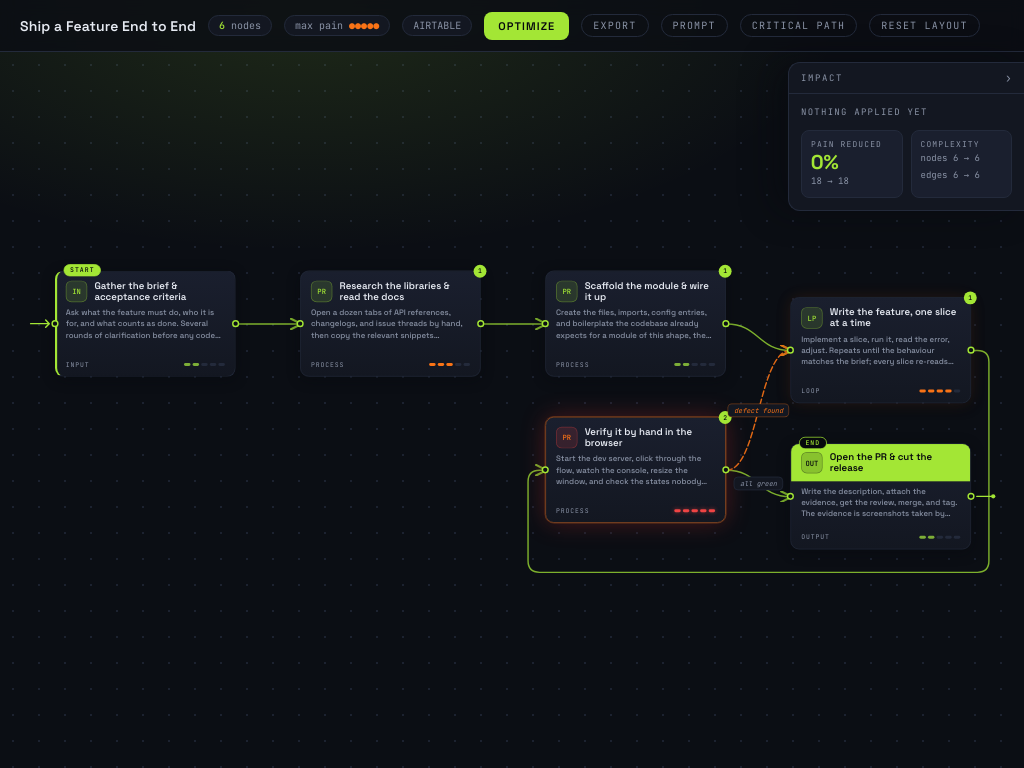
Scenario: opens the window on the run the button speaks for, live off the session
What coordinates should you click on to do the following:
click the button with test id "optimize-btn"
I would click on:
 (527, 26)
Its box is left=484, top=12, right=569, bottom=40.
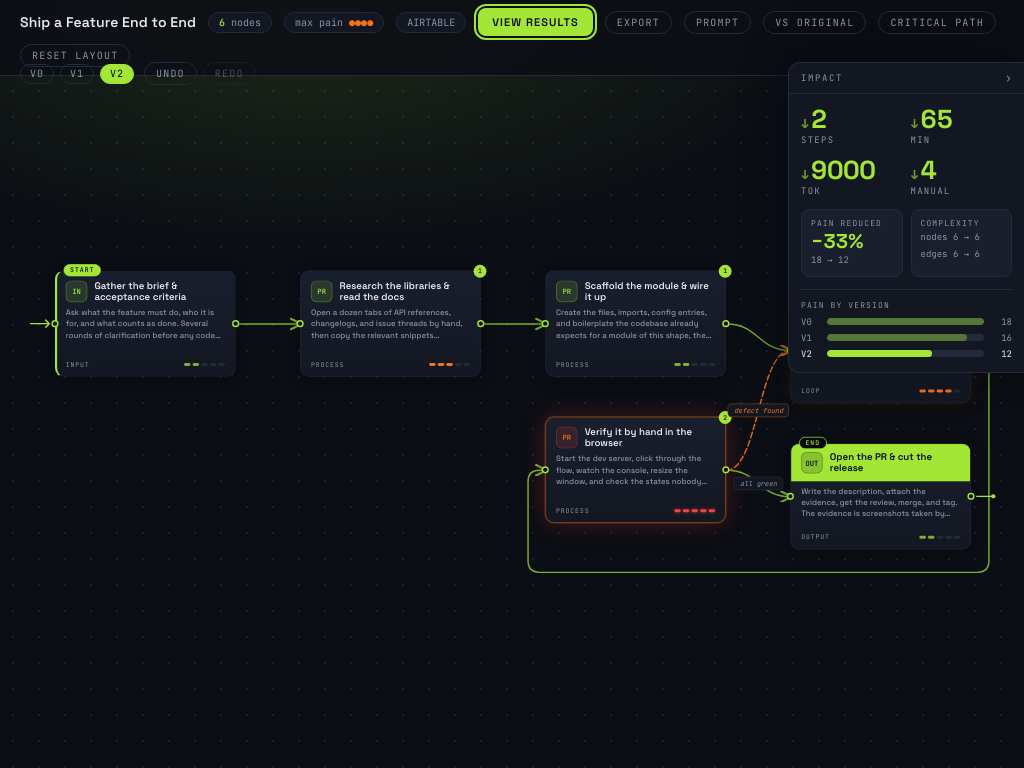
What coordinates should you click on to do the following:
click the button with test id "view-results-btn"
I would click on:
 (536, 22)
Its box is left=478, top=8, right=593, bottom=36.
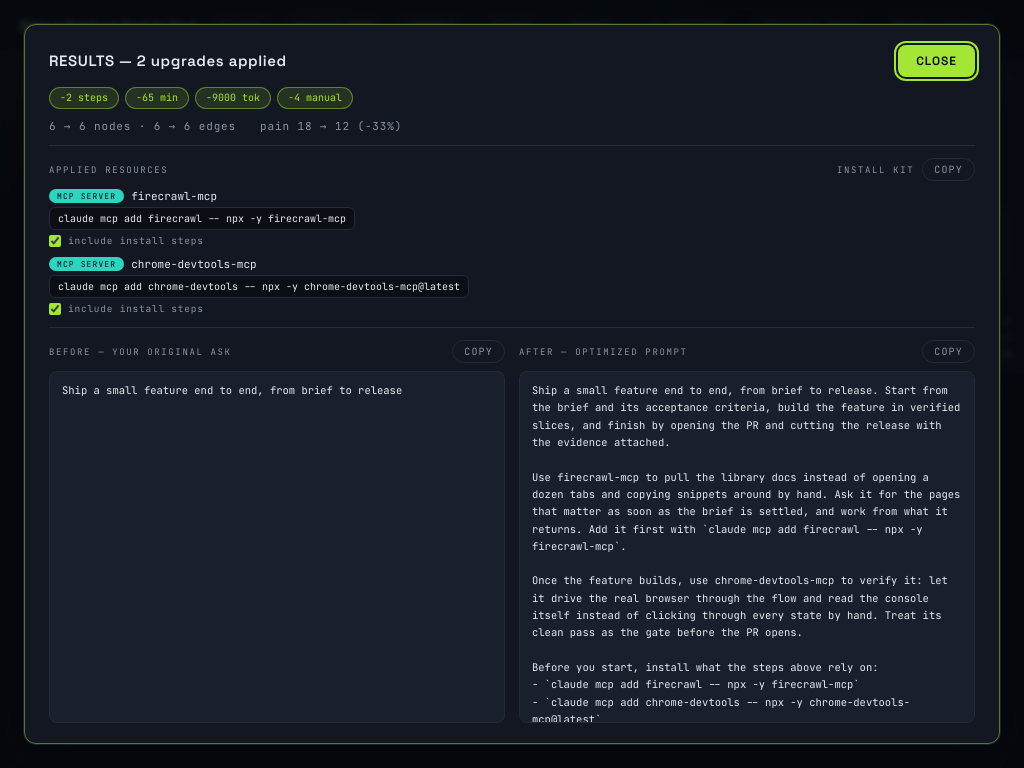
expect the dialog with test id "results-window" shows "RESULTS — 2 upgrades applied": met, box left=49, top=51, right=287, bottom=70
expect the text with test id "results-count" reads "6 → 6 nodes · 6 → 6 edges": met, box left=49, top=119, right=236, bottom=133
expect the text with test id "results-pain" reads "pain 18 → 12 (−33%)": met, box left=260, top=119, right=402, bottom=133
